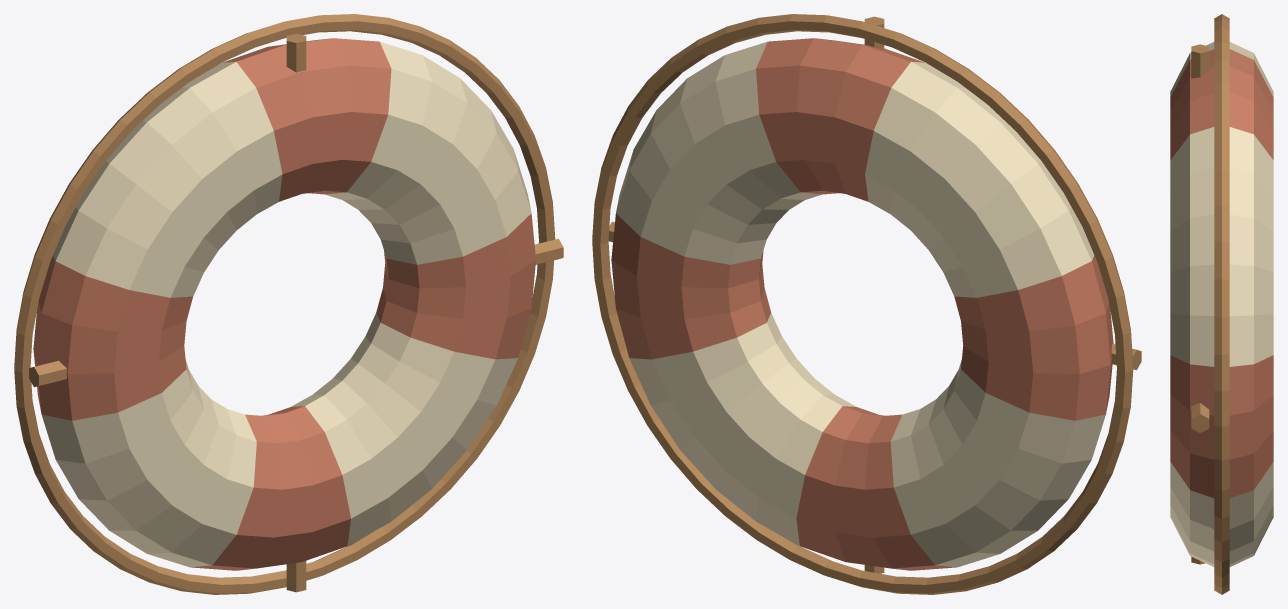
3 renders of one model, left to right at view 1: azimuth 30°, elevation 25°; view 2: azimuth 150°, elevation 25°; view 3: azimuth 270°, elevation 25°, orthographic. The views are drawn at different scales.
Visible parts, largest first — view 1: harbor-lifebuoy-01; view 2: harbor-lifebuoy-01; view 3: harbor-lifebuoy-01.
Boxes of the visible parts, x1,y1,x2,y2 form: harbor-lifebuoy-01: (14,14,563,594); harbor-lifebuoy-01: (592,14,1141,594); harbor-lifebuoy-01: (1170,14,1273,594).
Bounding box in the file's own units: 0.938 × 0.938 × 0.1664.
